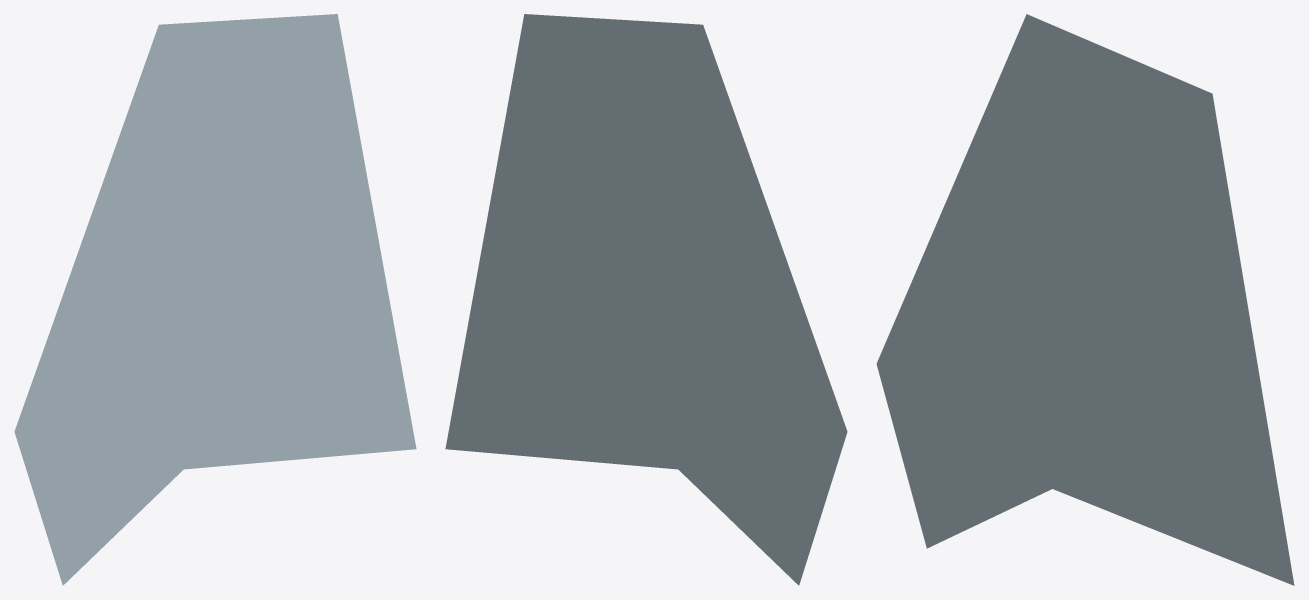
The picture shows the model from 3 angles, left to right: view 1: azimuth 30°, elevation 25°; view 2: azimuth 150°, elevation 25°; view 3: azimuth 330°, elevation 25°; orthographic projection. The views are drawn at different scales.
Visible parts, largest first — view 1: pCube18; view 2: pCube18; view 3: pCube18.
Boxes of the visible parts, x1,y1,x2,y2 form: pCube18: (14, 14, 416, 585); pCube18: (445, 14, 847, 585); pCube18: (876, 14, 1294, 585).
Bounding box in the file's own units: 40.58 × 51.87 × 0.
